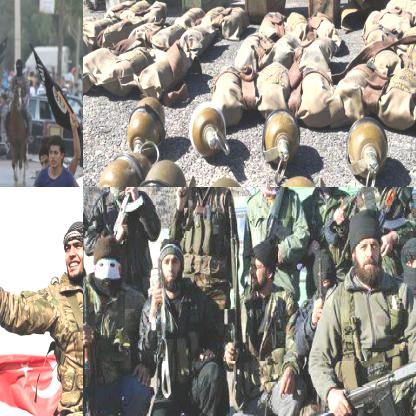rifle: (303, 331, 415, 415), (222, 202, 243, 400), (83, 277, 107, 415), (315, 191, 363, 247), (378, 187, 414, 233)
